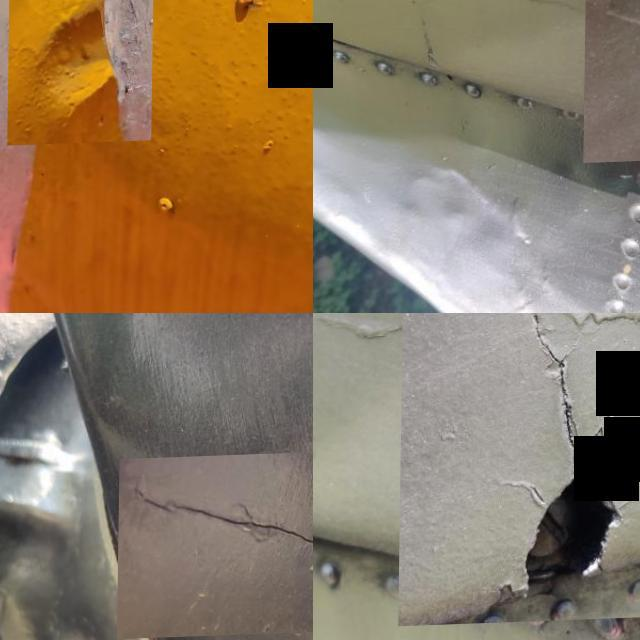Crack: (399, 313, 640, 627), (118, 450, 313, 640), (584, 0, 640, 165)
Dent: (8, 0, 154, 147)
